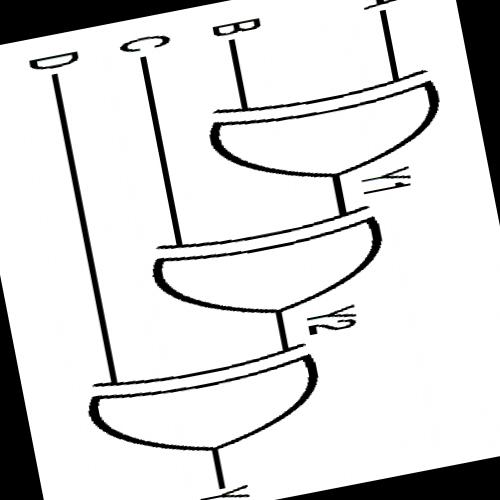xor: (107, 190, 410, 355), (57, 329, 349, 488), (178, 50, 460, 207)
